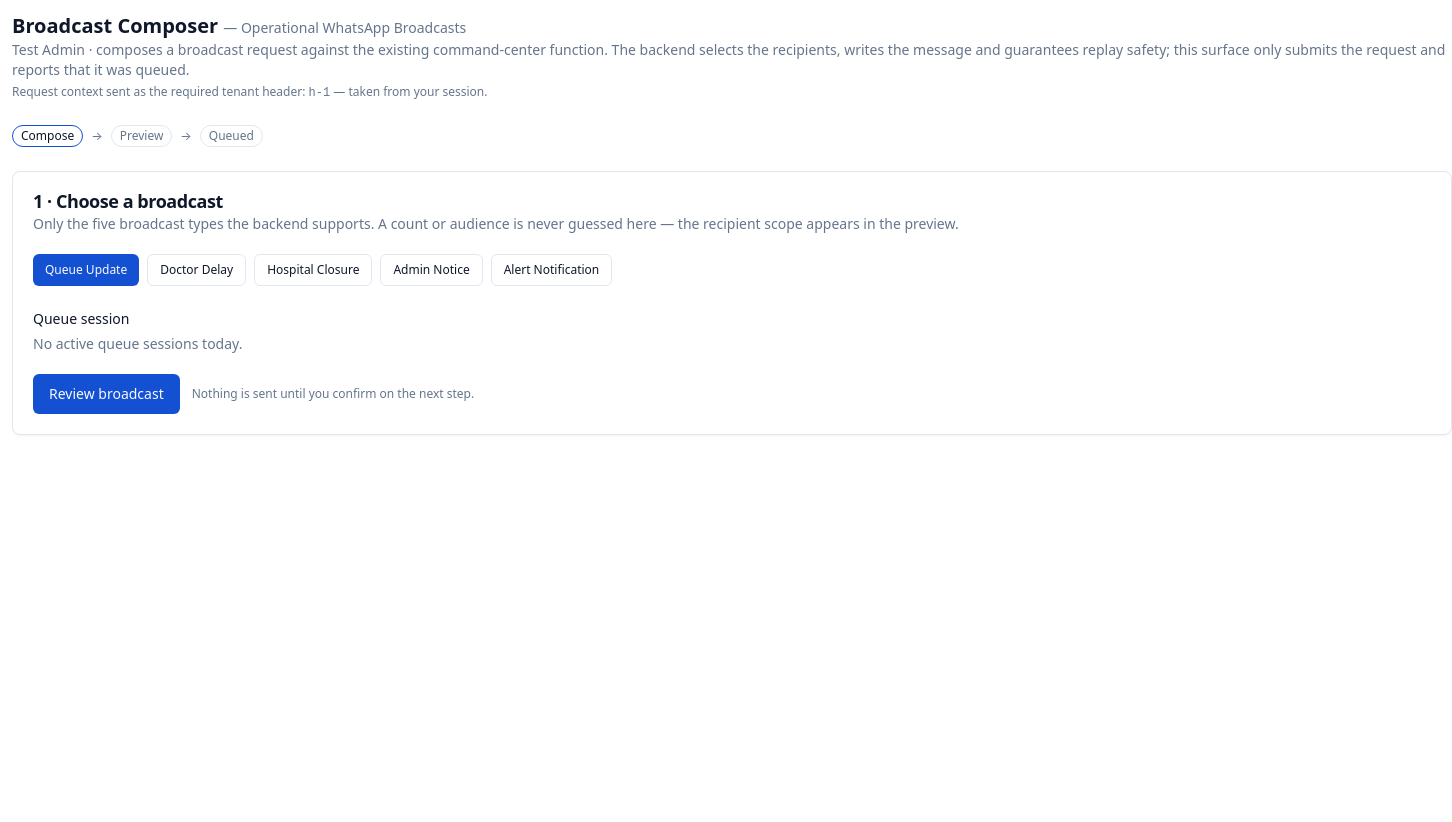
Test: compose fields per broadcast type › closure requires no session (backend resolves the audience)
Click the button with test id "type-closure".
click(313, 270)  # box [254, 254, 372, 286]
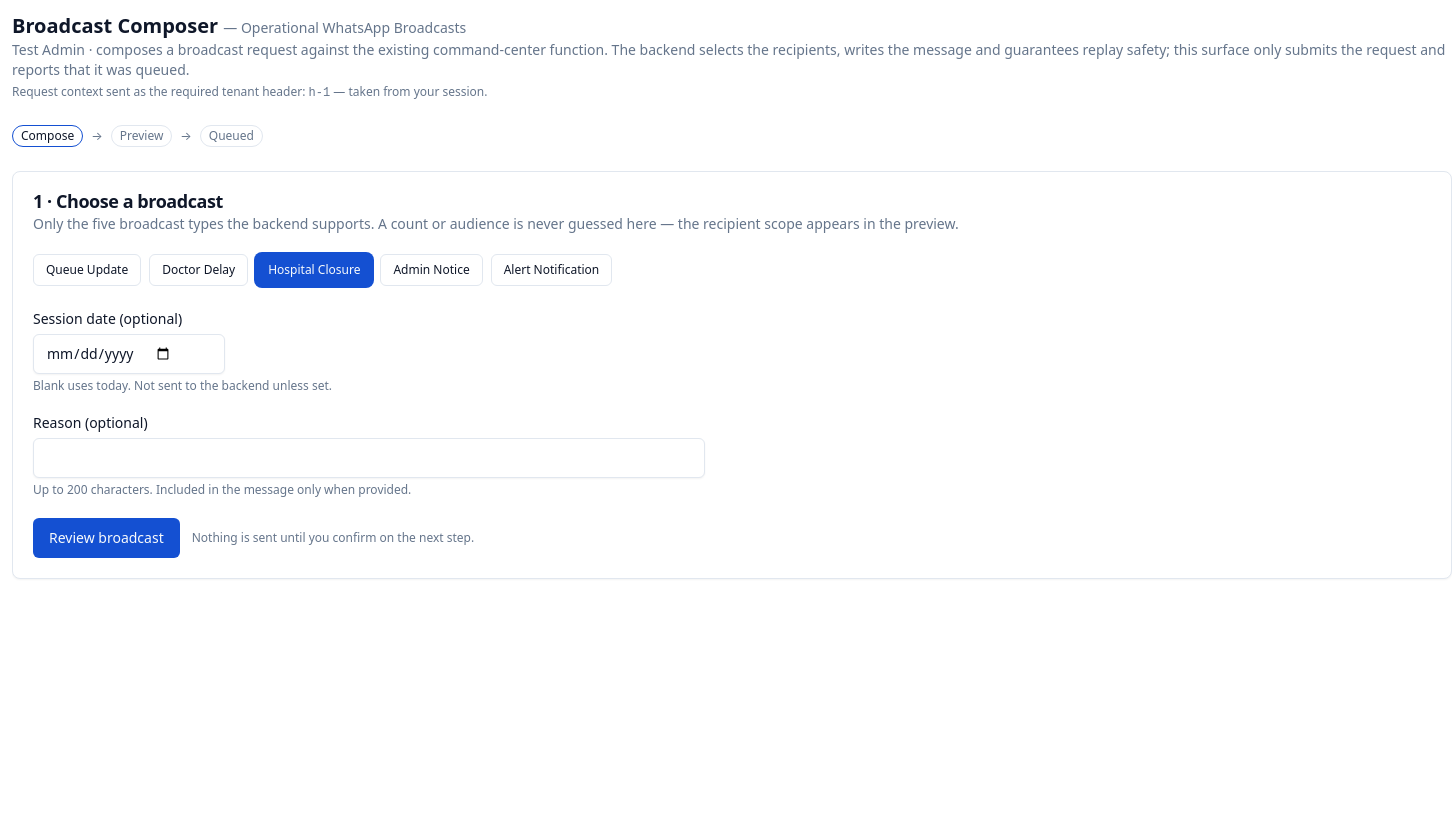
Expected: the date field with test id "bc-date" is shown, [33, 334, 225, 374]
